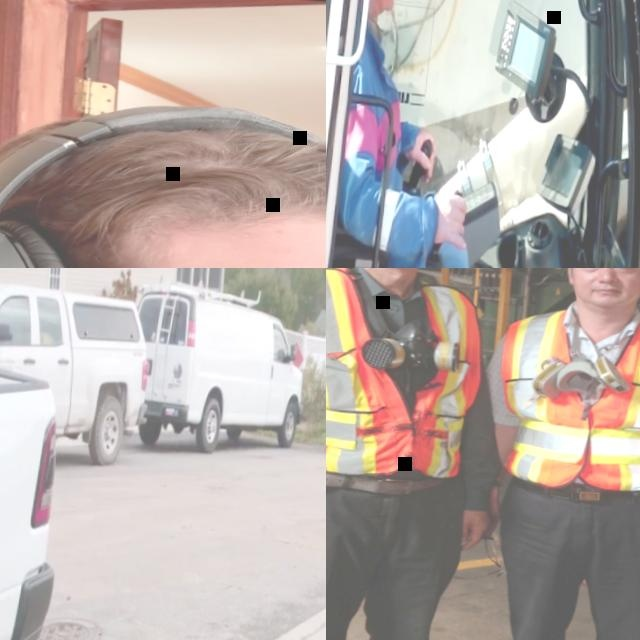NO-Hardhat: (0, 87, 326, 253)
NO-Mask: (578, 279, 634, 308), (371, 0, 396, 13)
Person: (326, 268, 524, 640), (459, 268, 640, 640), (0, 74, 326, 268), (326, 0, 513, 268)
Safety Vest: (326, 268, 497, 483), (490, 304, 640, 496), (337, 43, 414, 255)
machinery: (326, 0, 640, 268)
vehicle: (125, 277, 313, 462), (0, 281, 155, 468), (0, 353, 72, 640)
